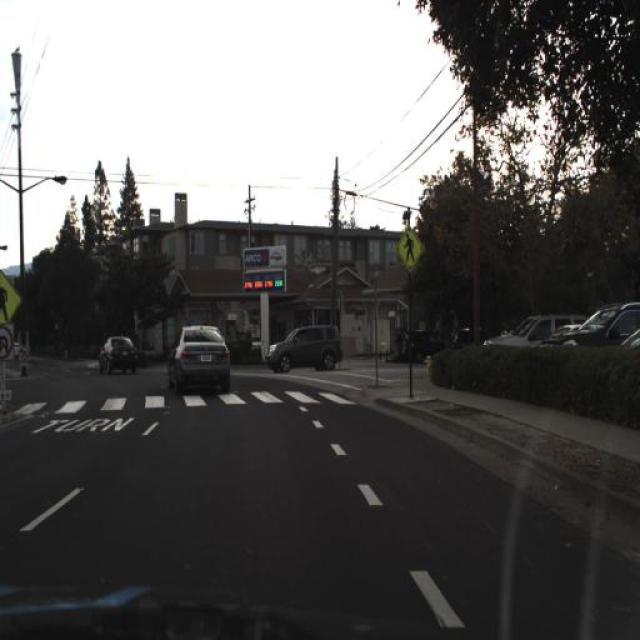car: (536, 300, 639, 382), (482, 307, 590, 361), (162, 321, 234, 395), (261, 322, 343, 378), (94, 326, 140, 382), (94, 333, 140, 382), (401, 328, 451, 370)
